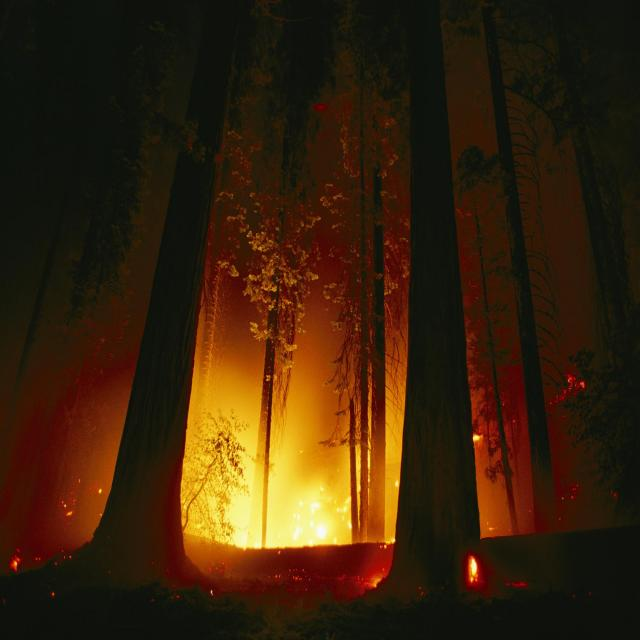Fire: (266, 478, 338, 548)
